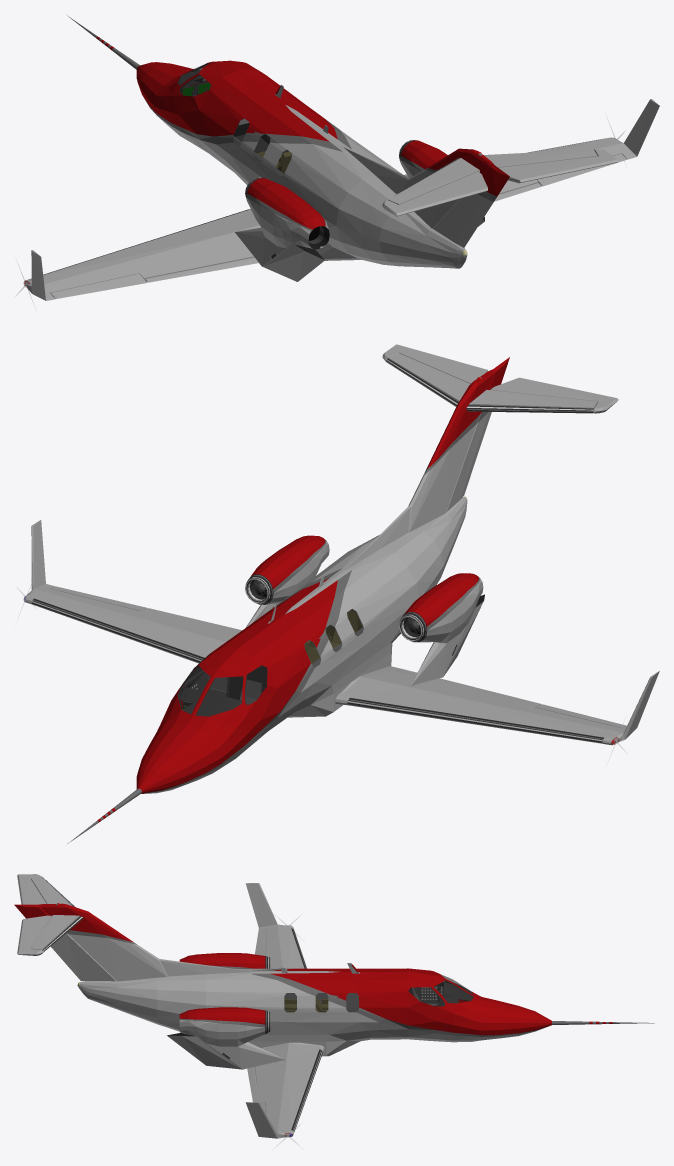
The model's file is HondaJET-F.obj.
3 renders of one model, top to bottom at view 1: azimuth 30°, elevation 25°; view 2: azimuth 150°, elevation 25°; view 3: azimuth 270°, elevation 25°, orthographic. The views are drawn at different scales.
Visible parts, largest first — view 1: ShapeIndexedFaceSet.002_ShapeIndexedFaceSet.003, ShapeIndexedFaceSet.004_ShapeIndexedFaceSet.005, ShapeIndexedFaceSet.003_ShapeIndexedFaceSet.004, ShapeIndexedFaceSet.033_ShapeIndexedFaceSet.034, ShapeIndexedFaceSet.037_ShapeIndexedFaceSet.038, ShapeIndexedFaceSet.036_ShapeIndexedFaceSet.037, ShapeIndexedFaceSet.075_ShapeIndexedFaceSet.076, ShapeIndexedFaceSet.045_ShapeIndexedFaceSet.046, ShapeIndexedFaceSet.020_ShapeIndexedFaceSet.021, ShapeIndexedFaceSet.043_ShapeIndexedFaceSet.044, ShapeIndexedFaceSet.035_ShapeIndexedFaceSet.036, ShapeIndexedFaceSet.008_ShapeIndexedFaceSet.009 (+1 smaller); view 2: ShapeIndexedFaceSet.002_ShapeIndexedFaceSet.003, ShapeIndexedFaceSet.004_ShapeIndexedFaceSet.005, ShapeIndexedFaceSet.003_ShapeIndexedFaceSet.004, ShapeIndexedFaceSet.008_ShapeIndexedFaceSet.009, ShapeIndexedFaceSet.075_ShapeIndexedFaceSet.076, ShapeIndexedFaceSet.007_ShapeIndexedFaceSet.008, ShapeIndexedFaceSet.020_ShapeIndexedFaceSet.021, ShapeIndexedFaceSet.037_ShapeIndexedFaceSet.038, ShapeIndexedFaceSet.036_ShapeIndexedFaceSet.037, ShapeIndexedFaceSet.033_ShapeIndexedFaceSet.034, ShapeIndexedFaceSet.015_ShapeIndexedFaceSet.016; view 3: ShapeIndexedFaceSet.002_ShapeIndexedFaceSet.003, ShapeIndexedFaceSet.004_ShapeIndexedFaceSet.005, ShapeIndexedFaceSet.003_ShapeIndexedFaceSet.004, ShapeIndexedFaceSet.075_ShapeIndexedFaceSet.076, ShapeIndexedFaceSet.033_ShapeIndexedFaceSet.034, ShapeIndexedFaceSet.008_ShapeIndexedFaceSet.009, ShapeIndexedFaceSet.020_ShapeIndexedFaceSet.021, ShapeIndexedFaceSet.036_ShapeIndexedFaceSet.037, ShapeIndexedFaceSet.037_ShapeIndexedFaceSet.038, ShapeIndexedFaceSet.015_ShapeIndexedFaceSet.016.
Boxes of the visible parts, bbox=[...] form: ShapeIndexedFaceSet.002_ShapeIndexedFaceSet.003: bbox=[25, 84, 659, 300]; ShapeIndexedFaceSet.004_ShapeIndexedFaceSet.005: bbox=[25, 36, 493, 287]; ShapeIndexedFaceSet.003_ShapeIndexedFaceSet.004: bbox=[25, 15, 482, 285]; ShapeIndexedFaceSet.033_ShapeIndexedFaceSet.034: bbox=[433, 194, 493, 247]; ShapeIndexedFaceSet.037_ShapeIndexedFaceSet.038: bbox=[382, 172, 487, 216]; ShapeIndexedFaceSet.036_ShapeIndexedFaceSet.037: bbox=[498, 149, 618, 183]; ShapeIndexedFaceSet.075_ShapeIndexedFaceSet.076: bbox=[178, 63, 291, 176]; ShapeIndexedFaceSet.045_ShapeIndexedFaceSet.046: bbox=[50, 273, 147, 298]; ShapeIndexedFaceSet.020_ShapeIndexedFaceSet.021: bbox=[178, 63, 270, 152]; ShapeIndexedFaceSet.043_ShapeIndexedFaceSet.044: bbox=[145, 257, 258, 282]; ShapeIndexedFaceSet.035_ShapeIndexedFaceSet.036: bbox=[482, 164, 509, 196]; ShapeIndexedFaceSet.008_ShapeIndexedFaceSet.009: bbox=[43, 138, 603, 274]; ShapeIndexedFaceSet.002_ShapeIndexedFaceSet.003: bbox=[24, 353, 659, 793]; ShapeIndexedFaceSet.004_ShapeIndexedFaceSet.005: bbox=[28, 369, 619, 822]; ShapeIndexedFaceSet.003_ShapeIndexedFaceSet.004: bbox=[32, 358, 615, 843]; ShapeIndexedFaceSet.008_ShapeIndexedFaceSet.009: bbox=[32, 358, 603, 742]; ShapeIndexedFaceSet.075_ShapeIndexedFaceSet.076: bbox=[178, 609, 363, 716]; ShapeIndexedFaceSet.007_ShapeIndexedFaceSet.008: bbox=[32, 359, 602, 743]; ShapeIndexedFaceSet.020_ShapeIndexedFaceSet.021: bbox=[177, 654, 267, 716]; ShapeIndexedFaceSet.037_ShapeIndexedFaceSet.038: bbox=[490, 377, 618, 413]; ShapeIndexedFaceSet.036_ShapeIndexedFaceSet.037: bbox=[382, 344, 487, 383]; ShapeIndexedFaceSet.033_ShapeIndexedFaceSet.034: bbox=[446, 412, 491, 511]; ShapeIndexedFaceSet.015_ShapeIndexedFaceSet.016: bbox=[207, 609, 363, 704]; ShapeIndexedFaceSet.002_ShapeIndexedFaceSet.003: bbox=[31, 877, 545, 1138]; ShapeIndexedFaceSet.004_ShapeIndexedFaceSet.005: bbox=[39, 903, 612, 1136]; ShapeIndexedFaceSet.003_ShapeIndexedFaceSet.004: bbox=[42, 879, 654, 1136]; ShapeIndexedFaceSet.075_ShapeIndexedFaceSet.076: bbox=[284, 974, 473, 1011]; ShapeIndexedFaceSet.033_ShapeIndexedFaceSet.034: bbox=[51, 933, 116, 981]; ShapeIndexedFaceSet.008_ShapeIndexedFaceSet.009: bbox=[42, 878, 322, 1131]; ShapeIndexedFaceSet.020_ShapeIndexedFaceSet.021: bbox=[408, 980, 473, 1006]; ShapeIndexedFaceSet.036_ShapeIndexedFaceSet.037: bbox=[17, 915, 51, 955]; ShapeIndexedFaceSet.037_ShapeIndexedFaceSet.038: bbox=[17, 874, 46, 904]; ShapeIndexedFaceSet.015_ShapeIndexedFaceSet.016: bbox=[284, 987, 437, 1012].
Bounding box in the file's own units: 122 × 37.32 × 151.
